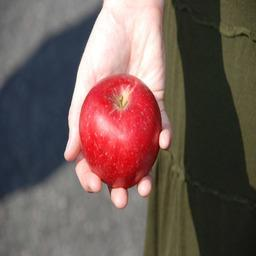apple: (78, 76, 163, 194)
